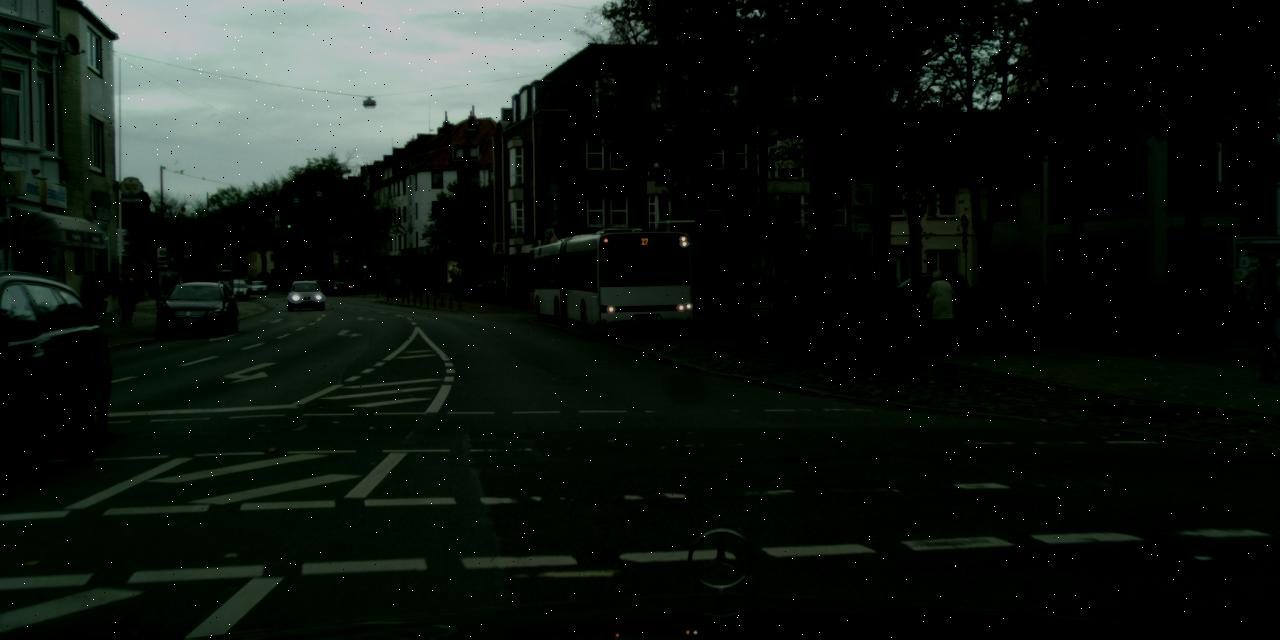ped: (1246, 244, 1278, 380), (926, 270, 958, 350), (703, 260, 727, 320), (716, 265, 738, 318), (117, 272, 134, 316), (1004, 270, 1018, 306), (1014, 274, 1027, 307), (450, 274, 460, 300), (393, 275, 401, 295), (400, 277, 408, 297), (431, 276, 438, 296)
